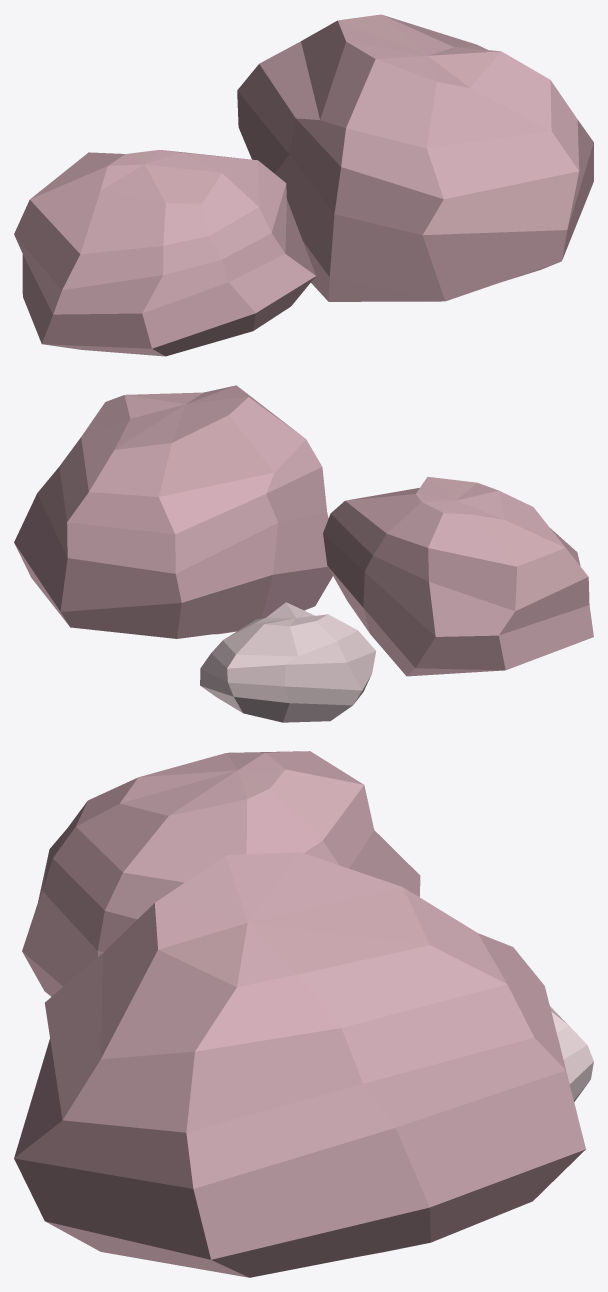
The model's file is Rocks3.fbx.
3 views of the same model, one above another, from view 1: azimuth 30°, elevation 25°; view 2: azimuth 150°, elevation 25°; view 3: azimuth 270°, elevation 25° (orthographic). The views are drawn at different scales.
Parts seen in each view (by area): view 1: pSphere2, pSphere3; view 2: pSphere2, pSphere3, pasted__pSphere3; view 3: pSphere2, pSphere3, pasted__pSphere3.
Part boxes in pixels (box(x1,y1,x2,y2)): pSphere2: box(237, 14, 593, 301); pSphere3: box(14, 150, 315, 356); pSphere2: box(14, 385, 332, 638); pSphere3: box(323, 476, 593, 676); pasted__pSphere3: box(200, 602, 375, 722); pSphere2: box(14, 852, 585, 1277); pSphere3: box(22, 751, 420, 996); pasted__pSphere3: box(550, 1006, 593, 1101).
Size of the model in its own units: 3.06 by 1.27 by 1.84.
